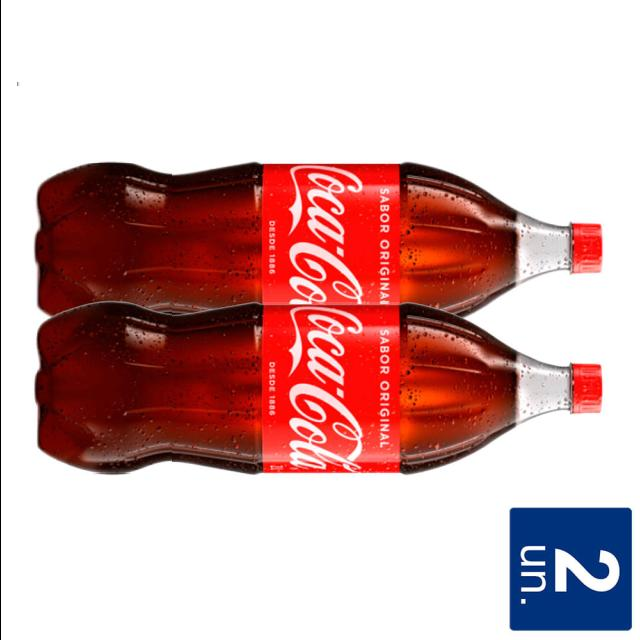bottom: (36, 304, 171, 473), (36, 164, 171, 314)
label: (262, 305, 399, 472), (262, 165, 399, 303)
